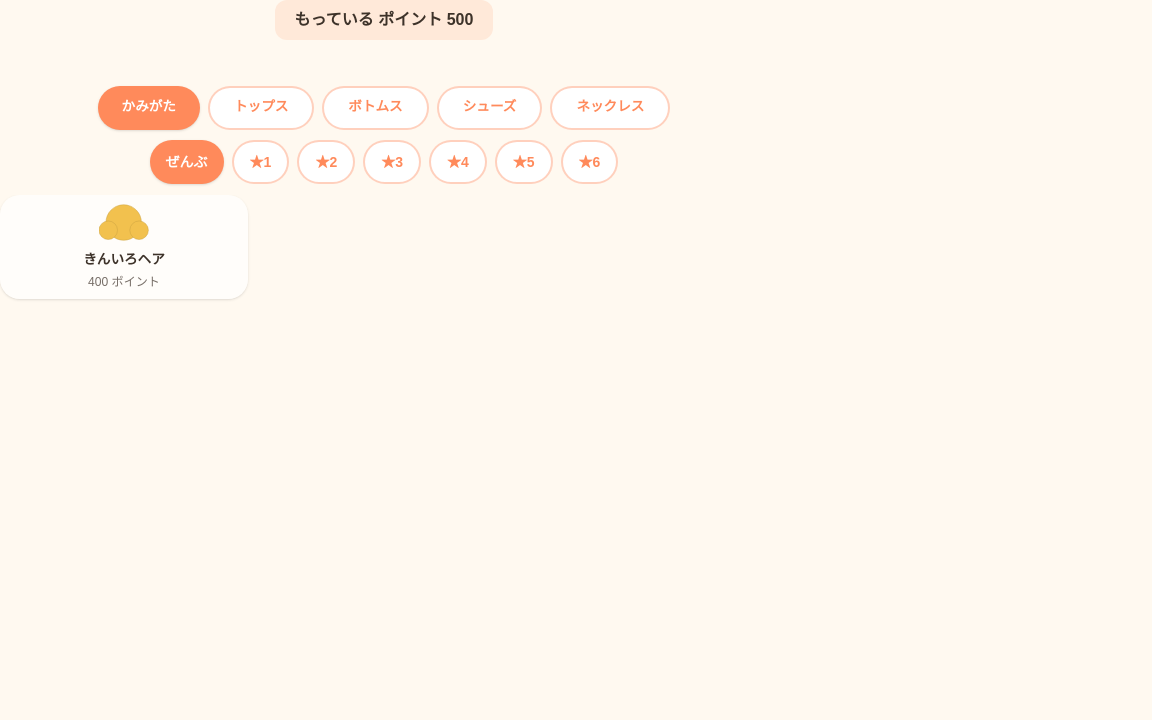
Test case: tapping an item asks for confirmation instead of buying right away
Step 1. Click the button "きんいろヘア 400 ポイント" → (124, 247), box x1=0 y1=195 x2=248 y2=299
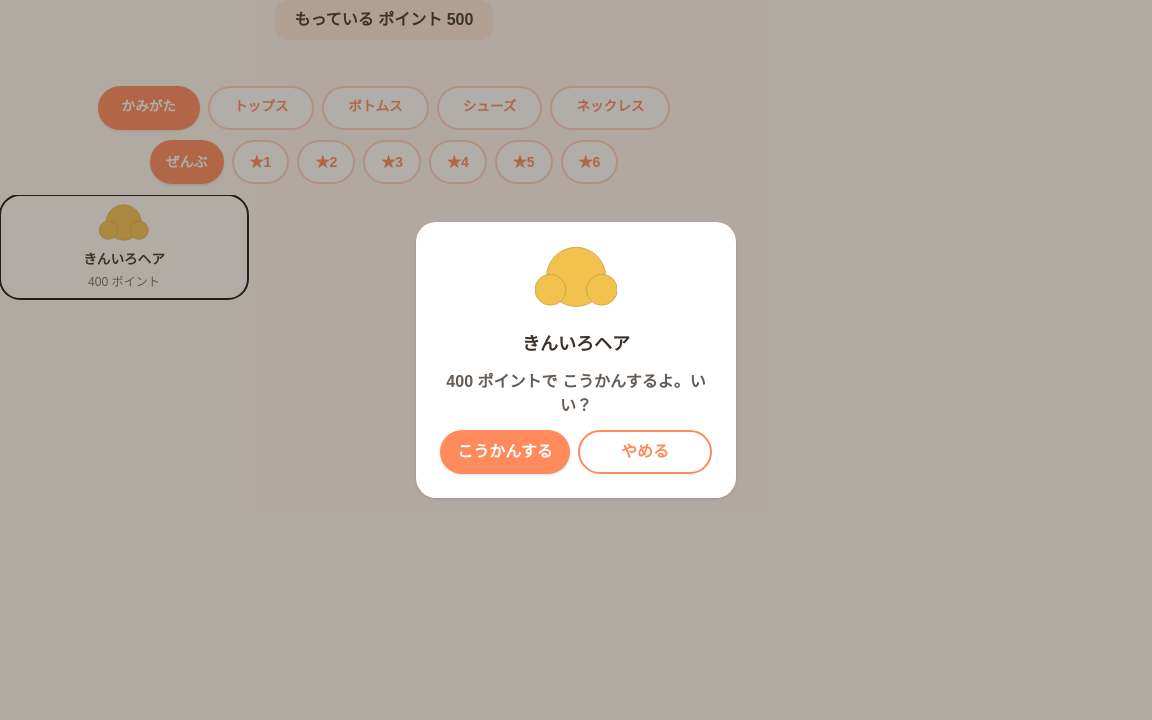
Check: the dialog shows "400 ポイントで こうかんするよ。いい？", box x1=416 y1=222 x2=736 y2=498
